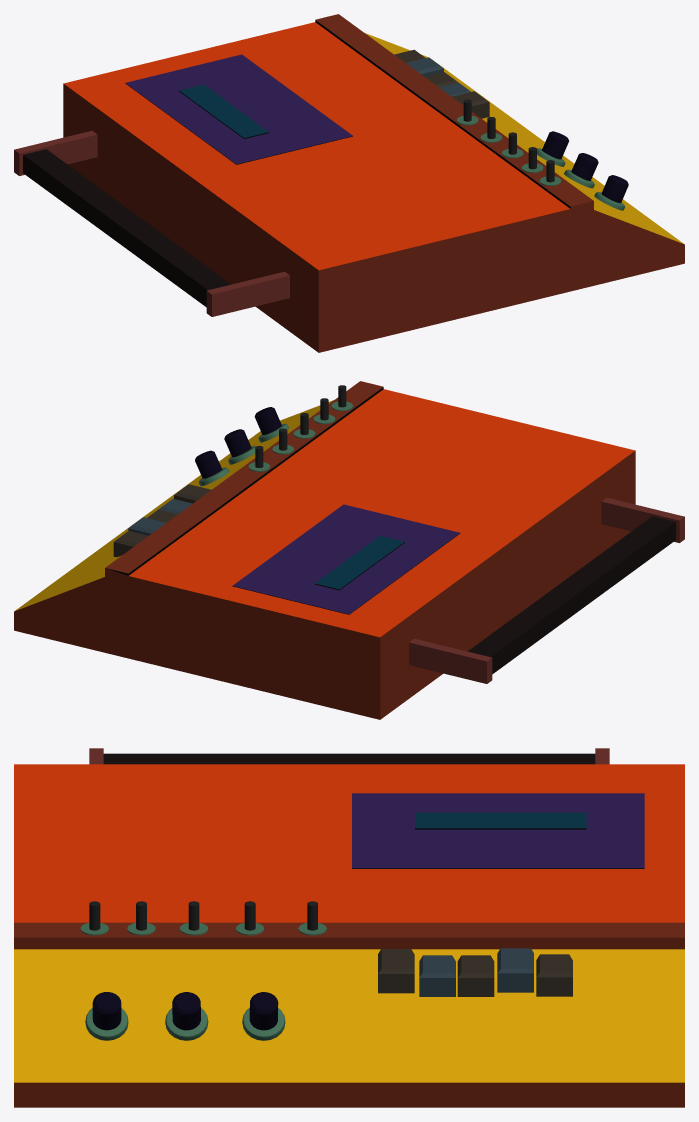
Rendered from SM_dictaphone.fbx.
The picture shows the model from 3 angles, top to bottom: view 1: azimuth 30°, elevation 25°; view 2: azimuth 150°, elevation 25°; view 3: azimuth 270°, elevation 25°; orthographic projection. The views are drawn at different scales.
Parts seen in each view (by area): view 1: polySurface74; view 2: polySurface74; view 3: polySurface74.
Boxes of the visible parts, box(x1,y1,x2,y2) form: polySurface74: box(14, 14, 684, 352); polySurface74: box(14, 381, 684, 719); polySurface74: box(14, 748, 684, 1107).
Bounding box in the file's own units: 79.95 × 17.98 × 79.57.
